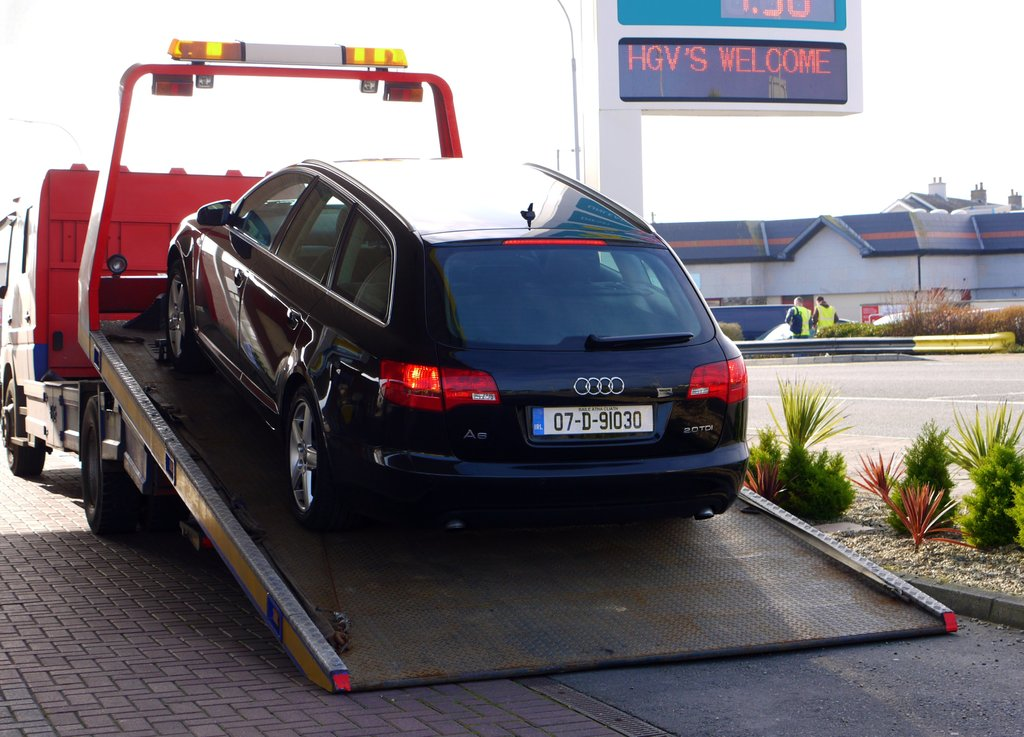license plate: (533, 406, 651, 432)
